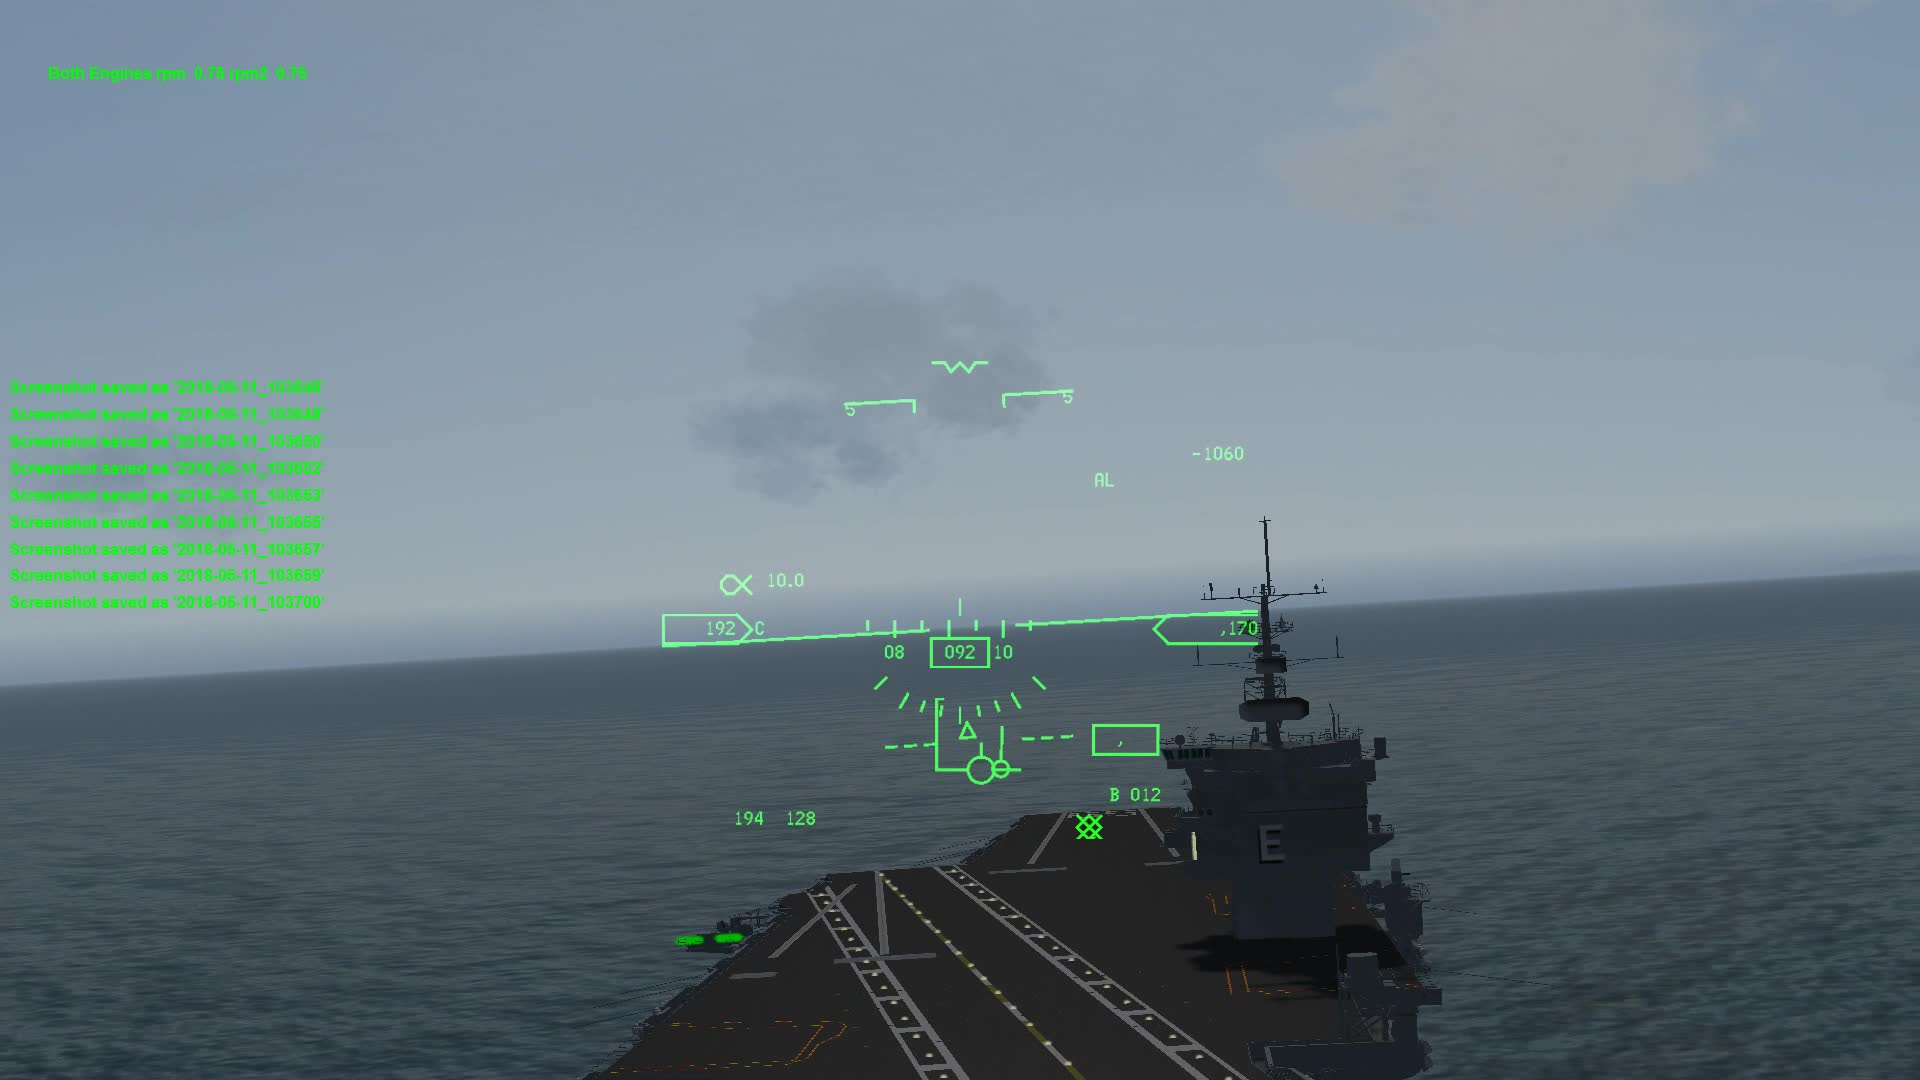speed vector: (942, 744, 1027, 789)
